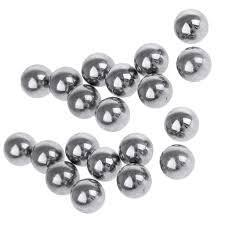steelball: (158, 141, 195, 179), (68, 175, 105, 213), (161, 105, 200, 141)
